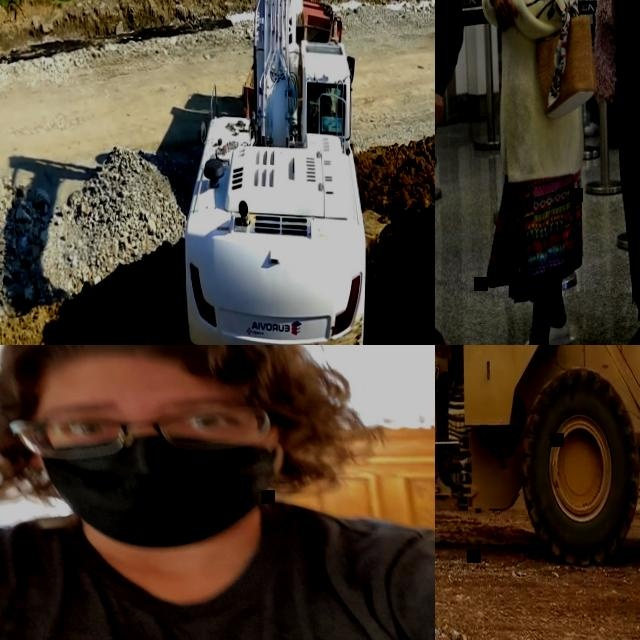Mask: (34, 435, 287, 547)
NO-Hardhat: (0, 345, 311, 398)
NO-Safety Vest: (0, 499, 435, 640), (497, 0, 571, 75)
Person: (0, 345, 435, 640), (478, 0, 584, 345)
machinery: (178, 0, 366, 345), (435, 345, 640, 566)
